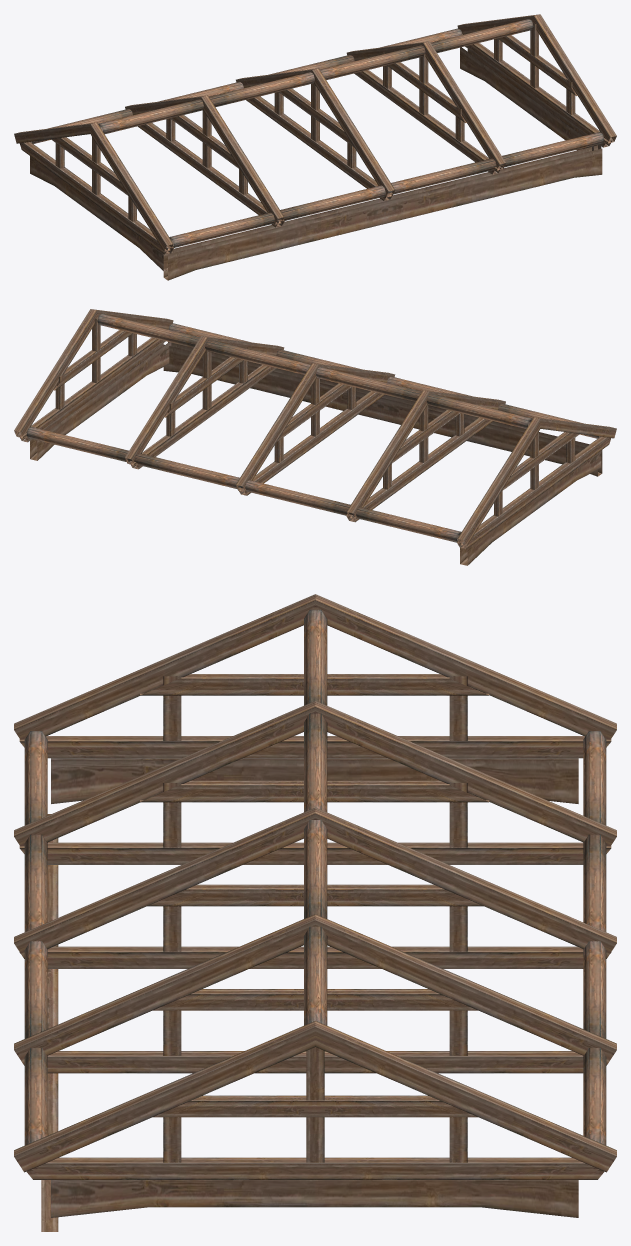
3 renders of one model, top to bottom at view 1: azimuth 30°, elevation 25°; view 2: azimuth 150°, elevation 25°; view 3: azimuth 270°, elevation 25°, orthographic. The views are drawn at different scales.
Visible parts, largest first — view 1: 对象011; view 2: 对象011; view 3: 对象011.
Boxes of the visible parts, x1,y1,x2,y2 form: 对象011: (14, 14, 616, 280); 对象011: (14, 309, 616, 565); 对象011: (14, 594, 616, 1231).
Bounding box in the file's own units: 1284 × 294 × 756.
